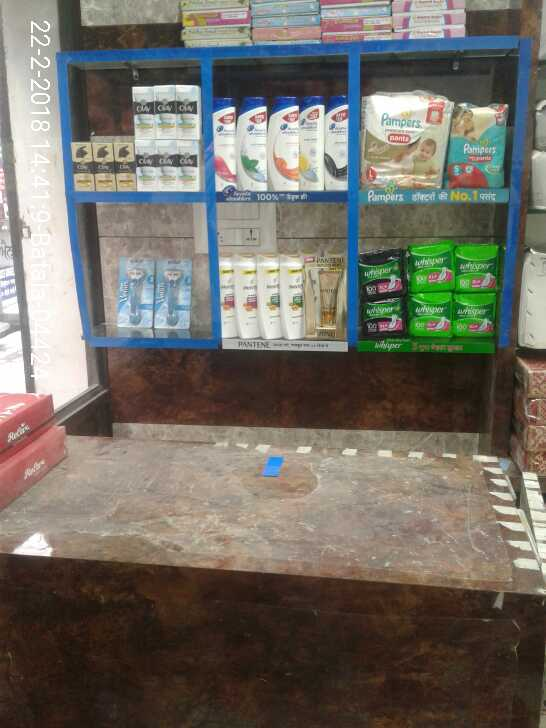venus: (154, 257, 194, 327), (120, 260, 154, 327)
